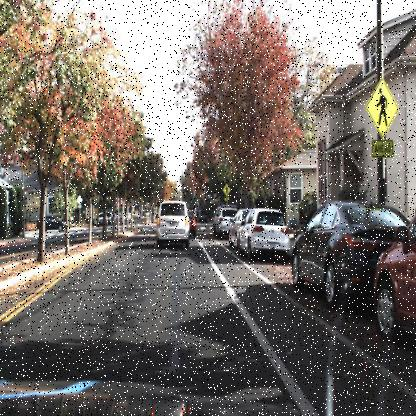car: (288, 196, 410, 312), (291, 199, 370, 302), (237, 206, 290, 267), (153, 198, 191, 250), (35, 212, 67, 235), (214, 204, 230, 242), (40, 213, 66, 234), (227, 208, 240, 250), (187, 205, 198, 237), (187, 209, 197, 238)
